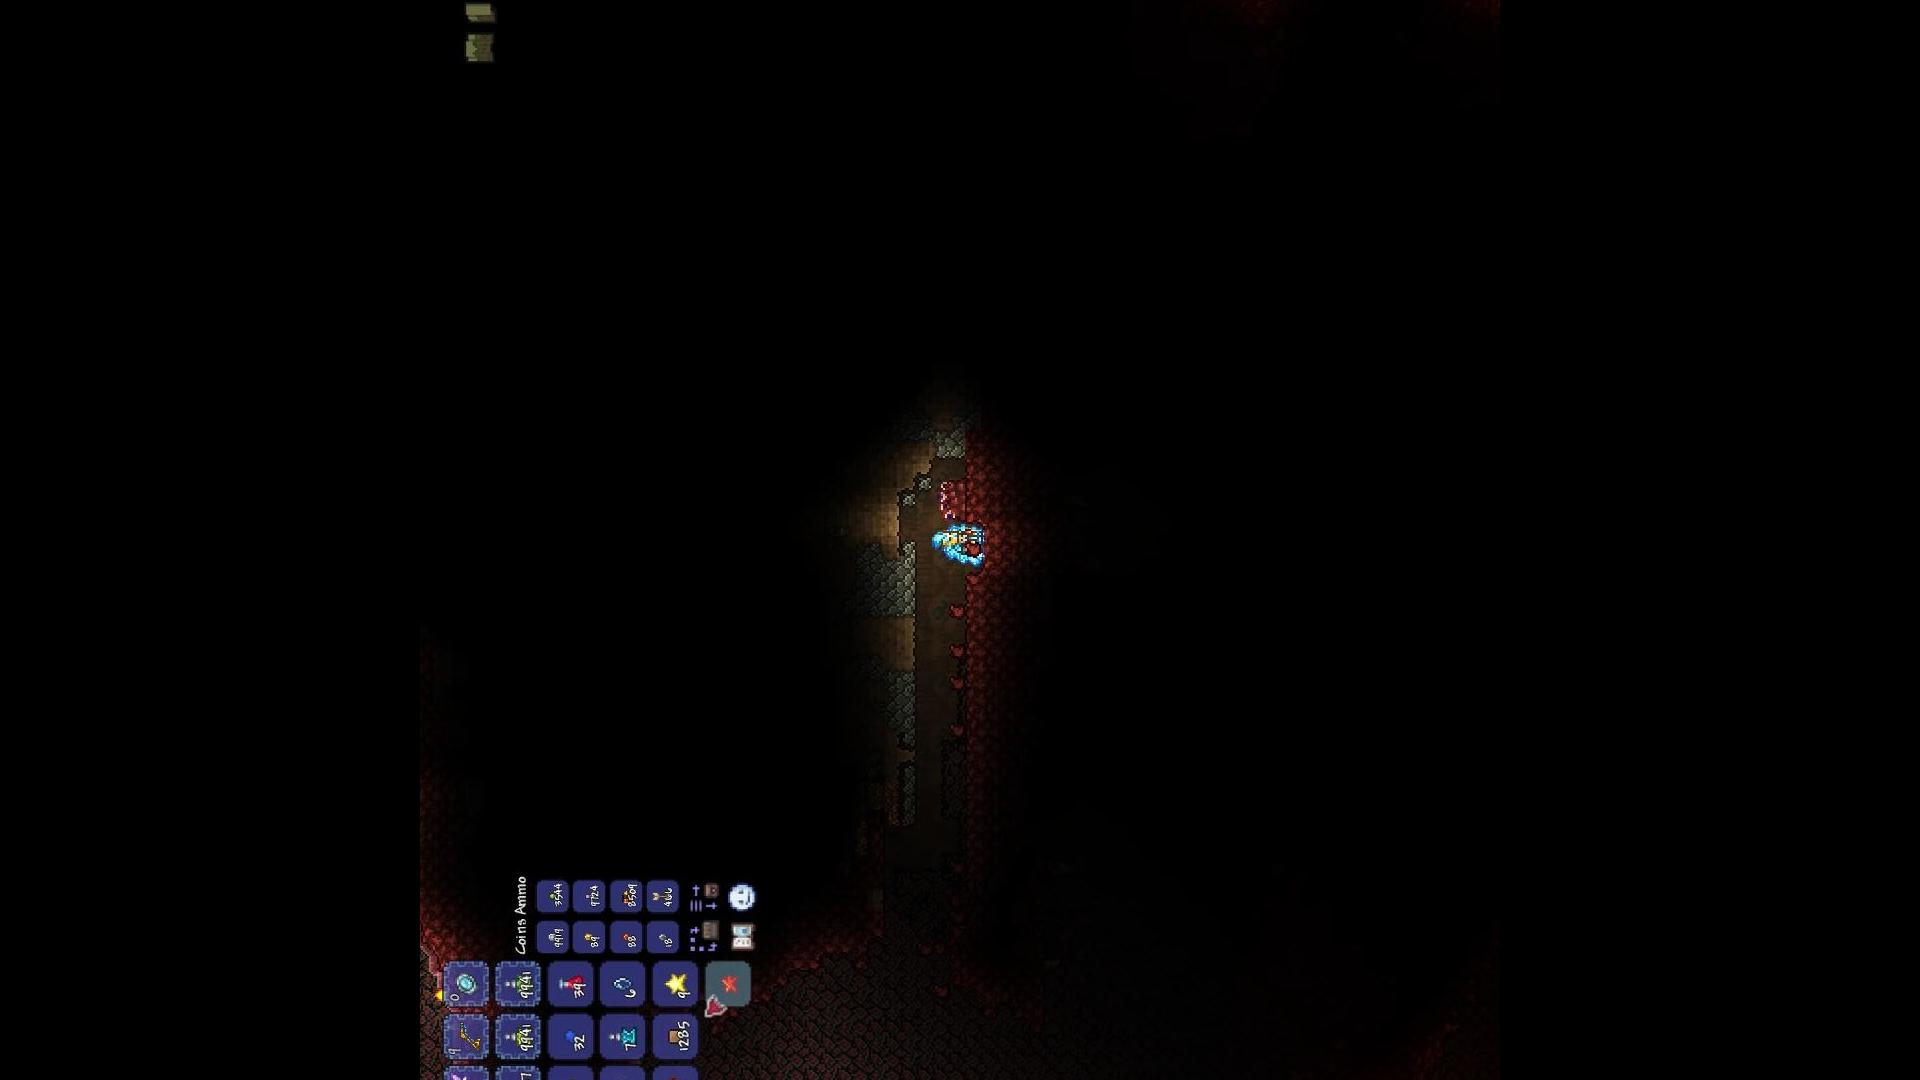mirror: (451, 971, 479, 997)
